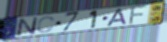1: (88, 9, 100, 30)
7: (61, 11, 81, 34)
A: (106, 8, 128, 27)
C: (36, 15, 57, 34)
F: (128, 4, 150, 26)
N: (16, 16, 39, 37)
